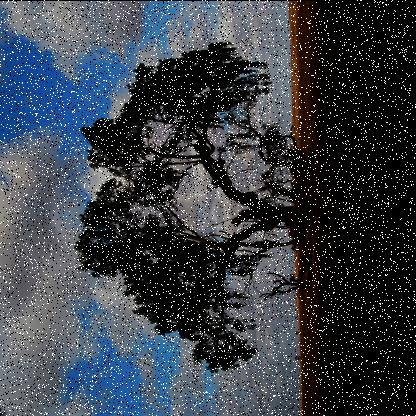Tree: (66, 37, 296, 374)
